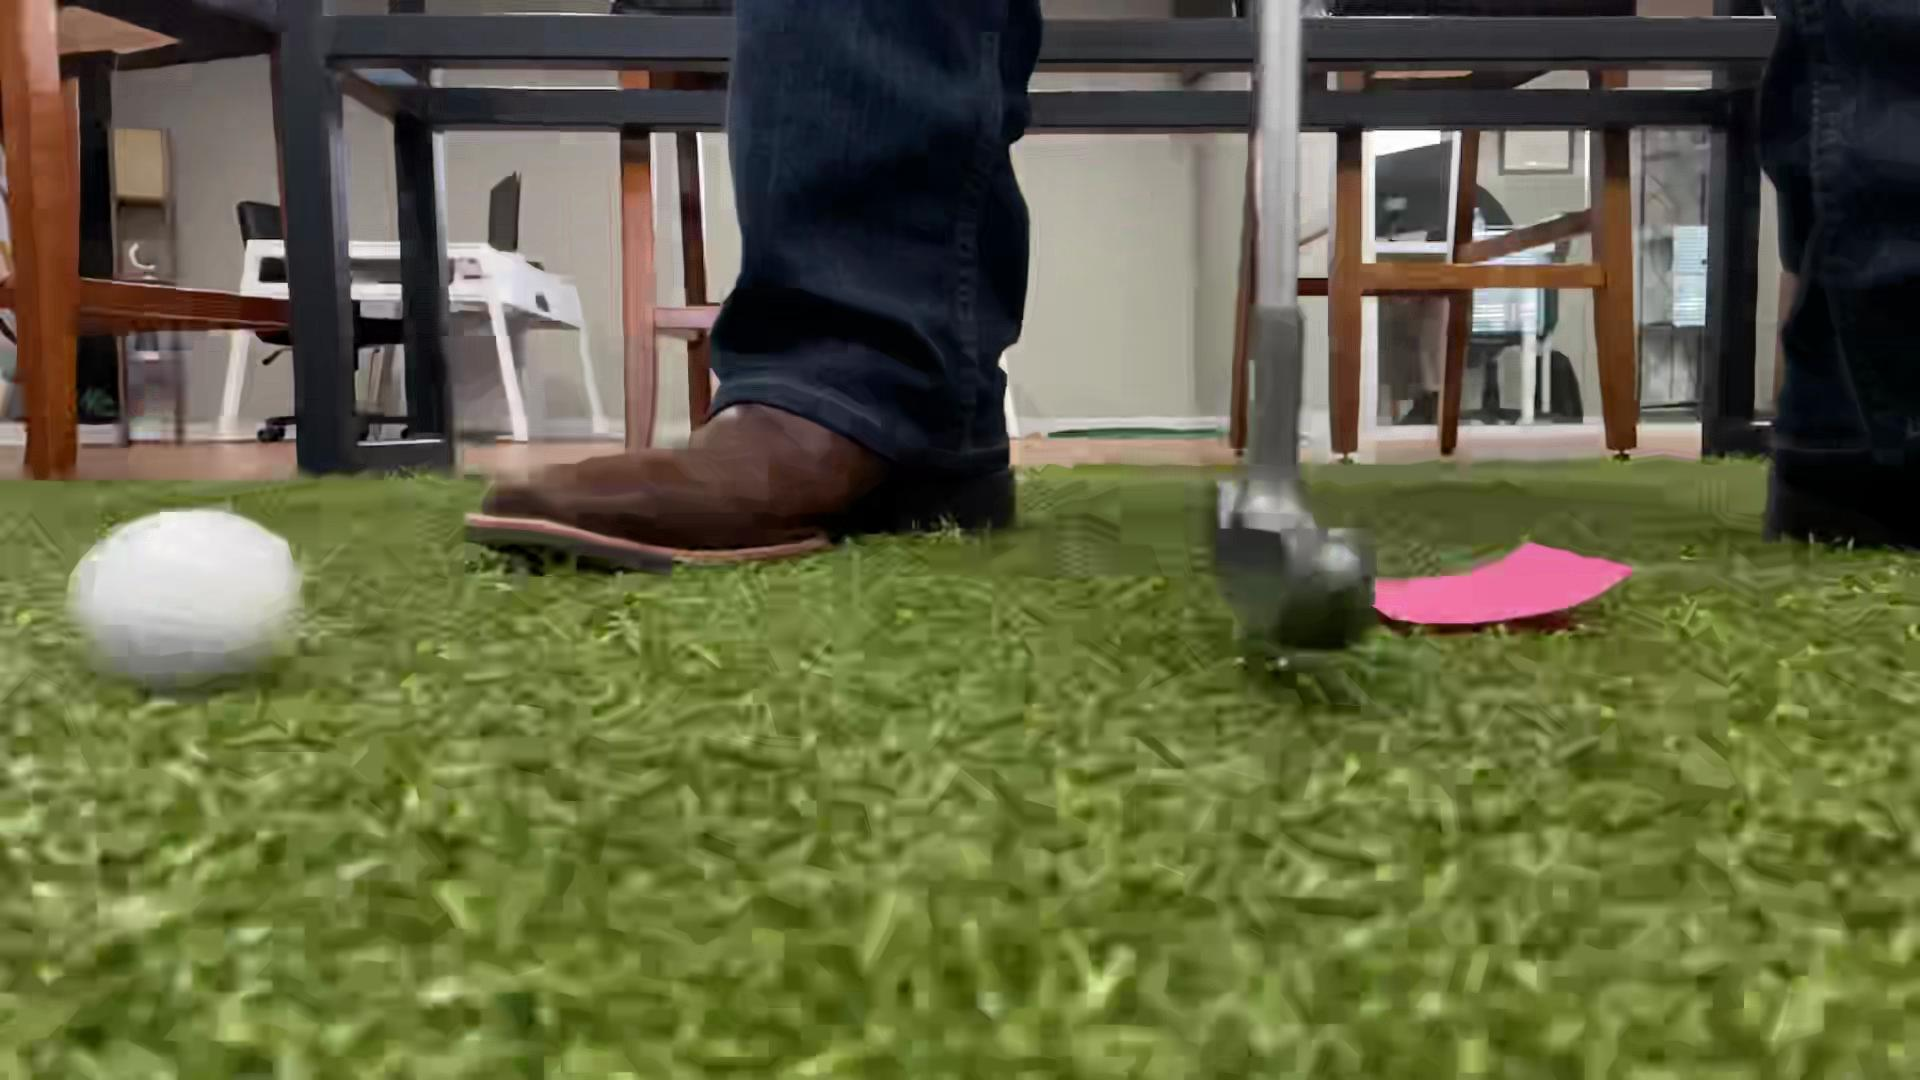golfball: (65, 511, 301, 695)
